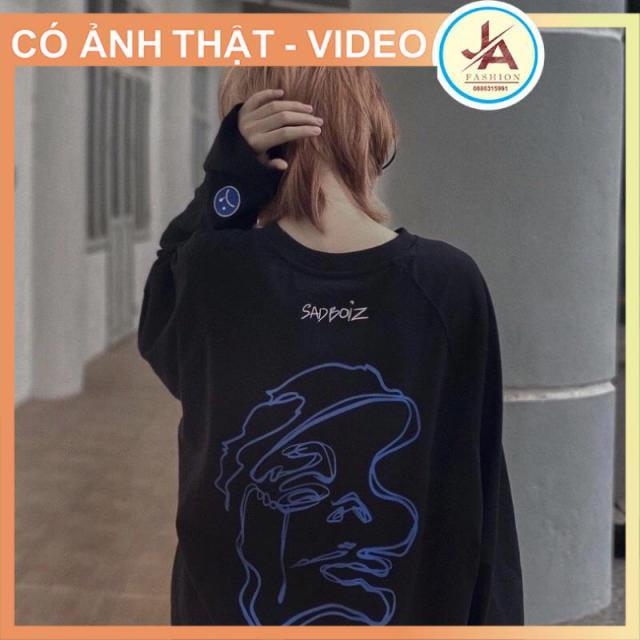Shirt: (137, 100, 537, 630)
